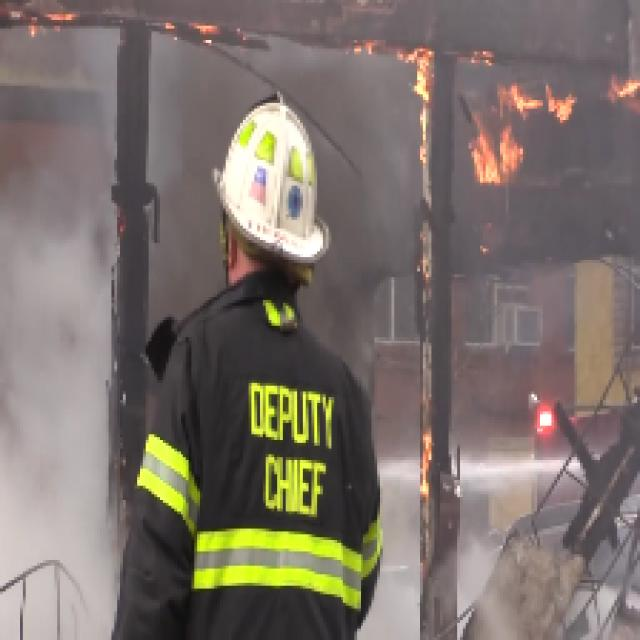fire: (506, 85, 572, 126), (476, 128, 512, 196), (412, 50, 437, 126)
smoke: (8, 206, 95, 604)
